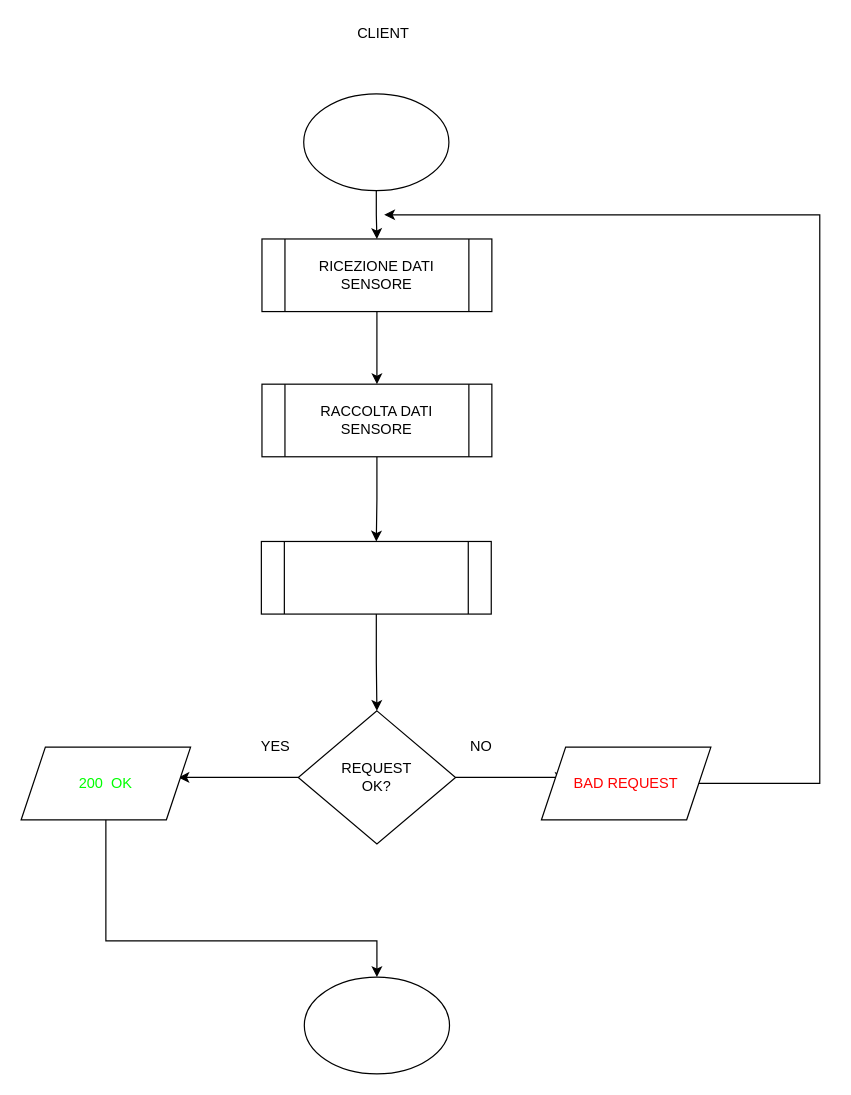
Image size: 851x1095. Some labels were removed from this diagram. Each missing label, with the centre of its shape:
END: the point at 376,1025
RICHIESTA HTTP: the point at 375,577
START: the point at 375,142
